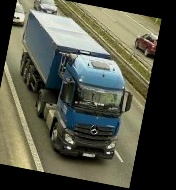car: (132, 29, 157, 60), (12, 0, 28, 27), (33, 0, 59, 14)
